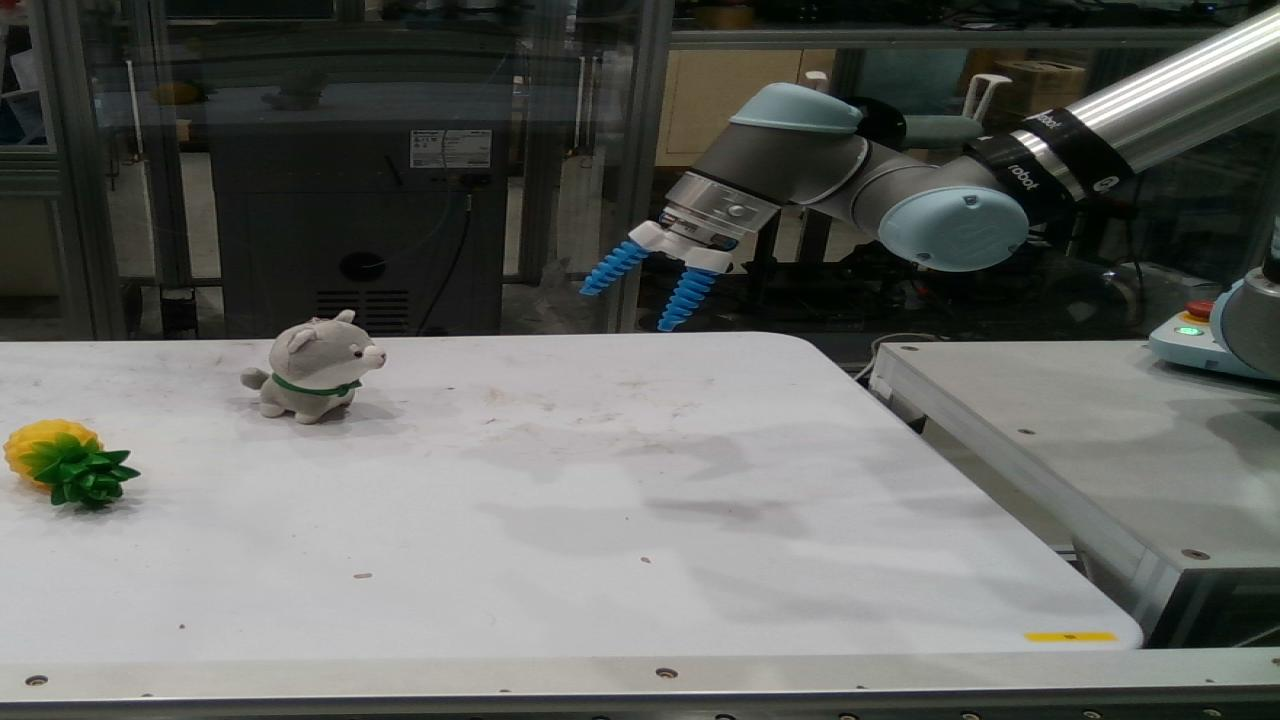UR5: (629, 12, 1272, 272)
gripper_left: (584, 238, 644, 295)
gripper_right: (664, 268, 712, 330)
target: (238, 312, 390, 422), (6, 420, 136, 507)
